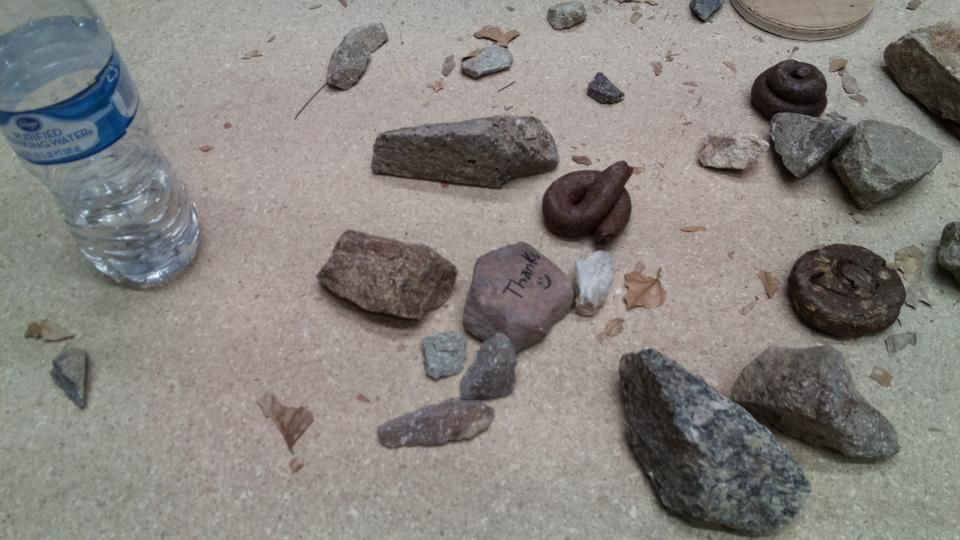poop: (786, 241, 910, 343), (538, 160, 636, 250), (750, 58, 829, 125)
